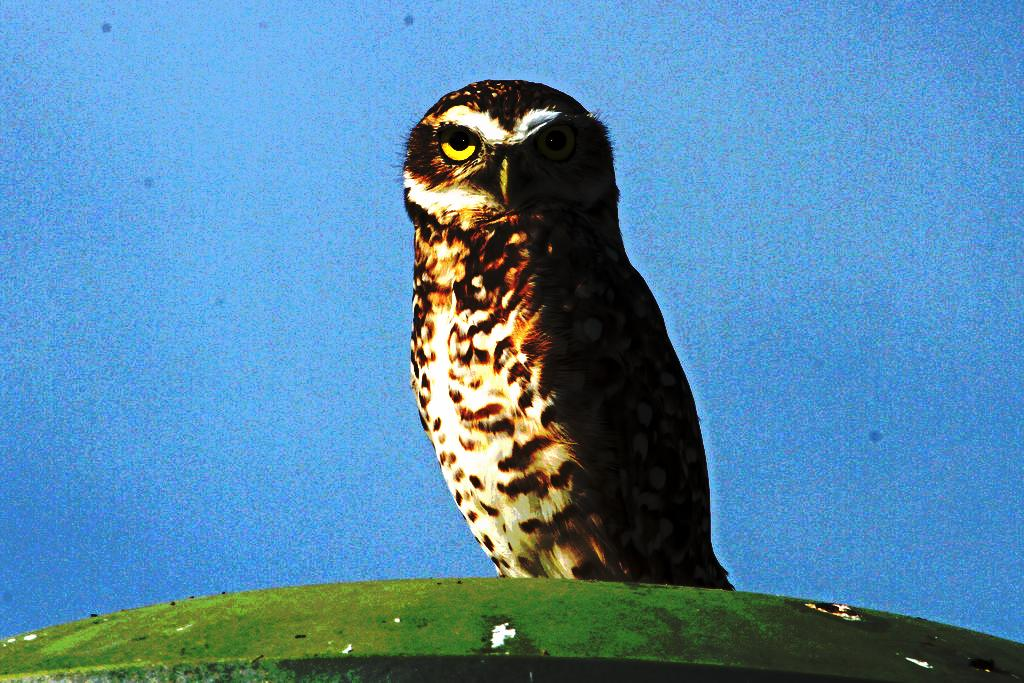Owl: (394, 80, 734, 587)
